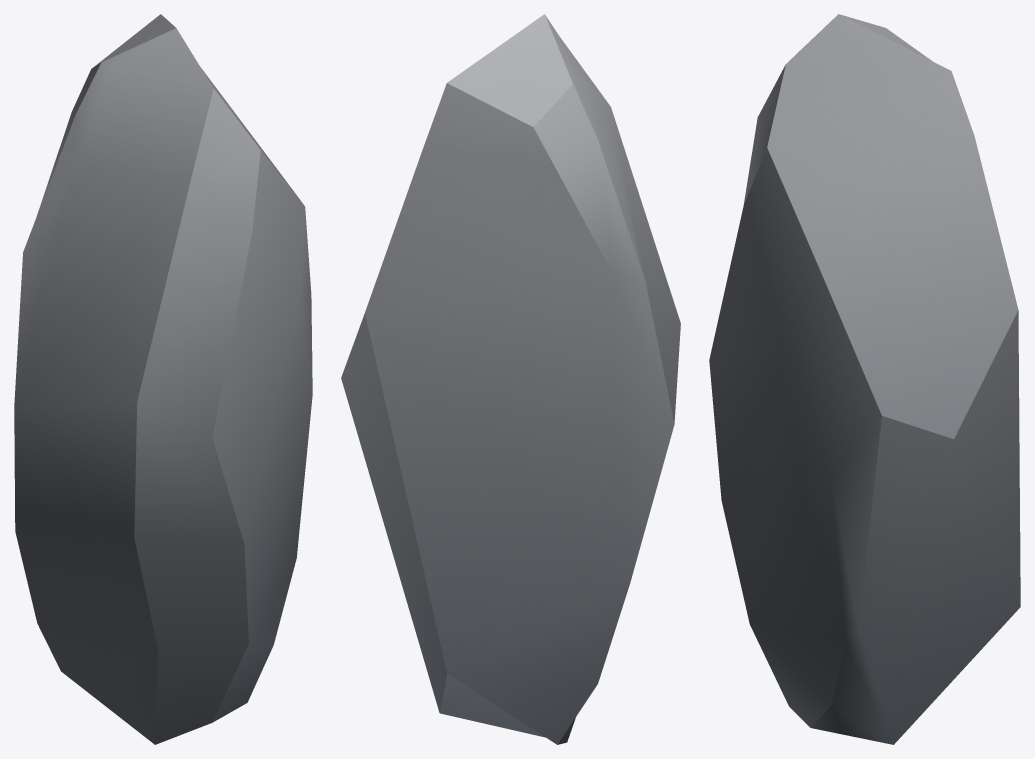
Rendered from rocaRedonda3.fbx.
3 renders of one model, left to right at view 1: azimuth 30°, elevation 25°; view 2: azimuth 150°, elevation 25°; view 3: azimuth 270°, elevation 25°, orthographic.
Visible parts, largest first — view 1: rocaRedonda3; view 2: rocaRedonda3; view 3: rocaRedonda3.
Part boxes in pixels (x1,y1,x2,y2): rocaRedonda3: [14, 14, 312, 744]; rocaRedonda3: [341, 14, 680, 744]; rocaRedonda3: [709, 14, 1020, 744].
Size of the model in its own units: 218 by 491 by 193.
